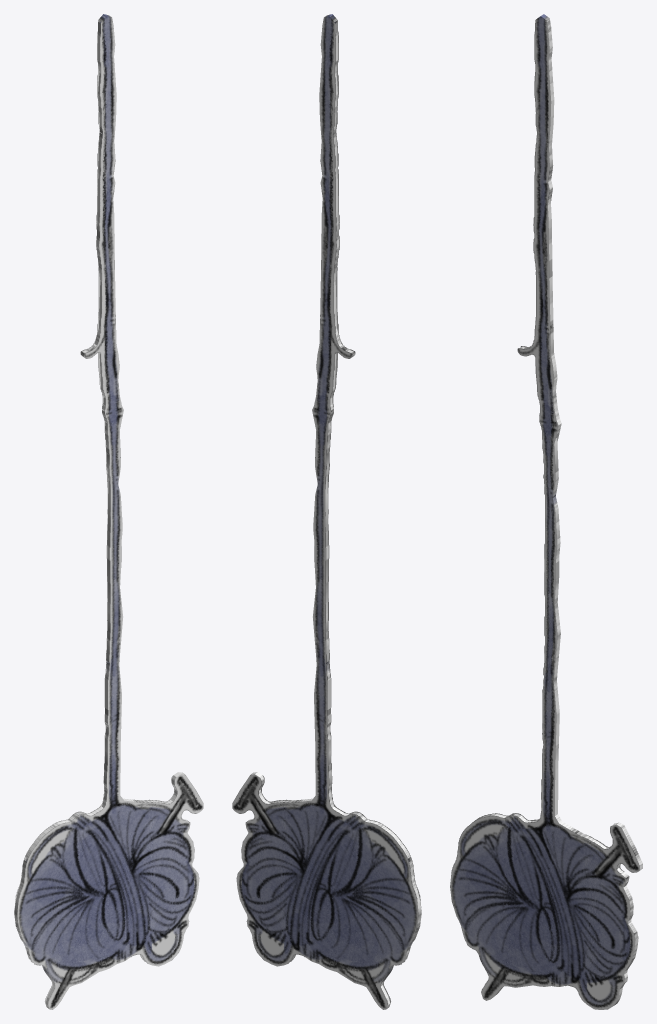
Rendered from 毛線球2.fbx.
3 renders of one model, left to right at view 1: azimuth 30°, elevation 25°; view 2: azimuth 150°, elevation 25°; view 3: azimuth 330°, elevation 25°, orthographic.
Parts seen in each view (by area): view 1: 毛線球2; view 2: 毛線球2; view 3: 毛線球2.
Part boxes in pixels (box(x1,y1,x2,y2)): 毛線球2: box(14, 14, 203, 1009); 毛線球2: box(232, 14, 421, 1009); 毛線球2: box(450, 14, 642, 1009).
Bounding box in the file's own units: 304 × 1525 × 8.56.
